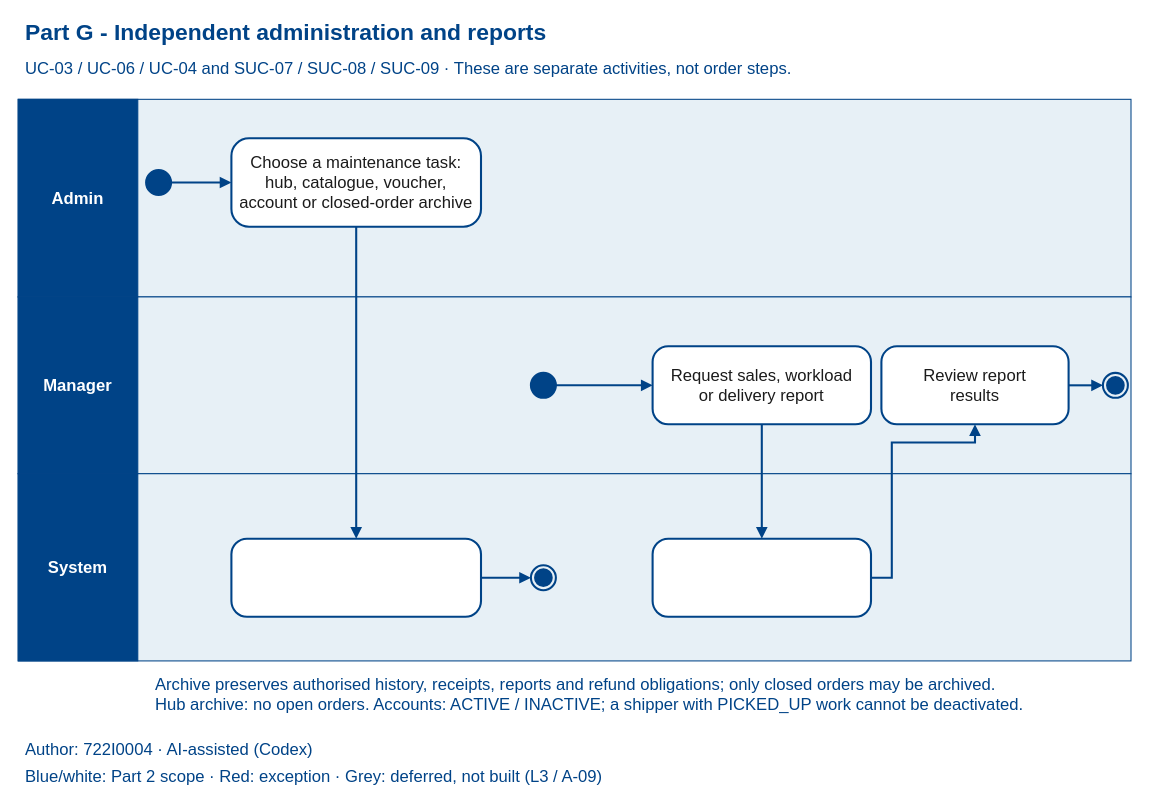
Some shapes in this 1149 by 804 pixel diagram are drawn without their labels. The centre of each missing label's shape, as x and y in pixels:
"Check role + task guards; persist permitted change" goes at (x=356, y=577).
"Read authorised records; no report writes" goes at (x=761, y=577).
